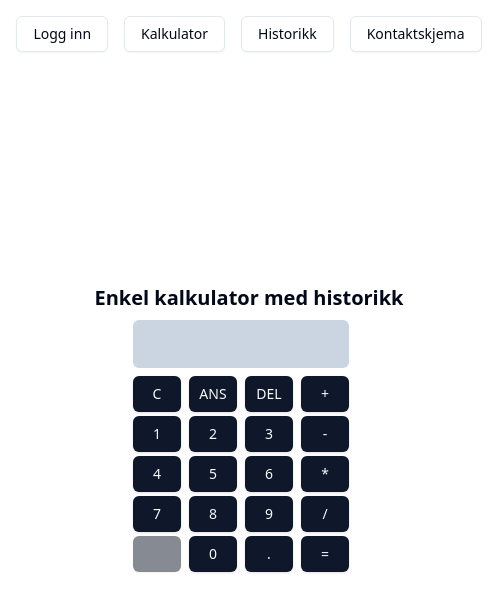
submit button should be deactivated when the form is invalid › gives the right status when submitting
Click the link "Kontaktskjema": (416, 34) [367, 24, 465, 44]
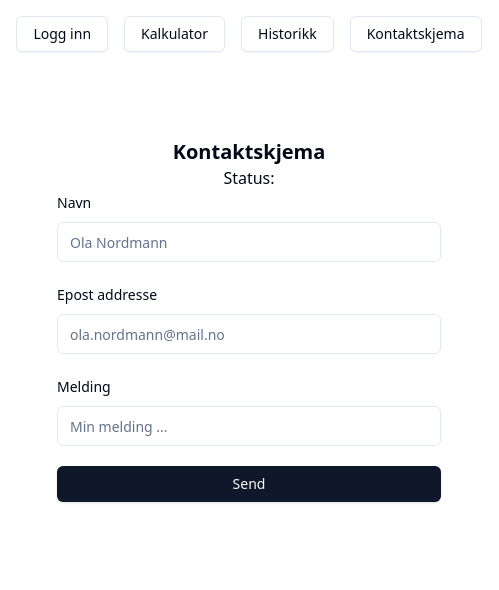
In the field named "name": (249, 242) [57, 222, 441, 262], type "John Doe"
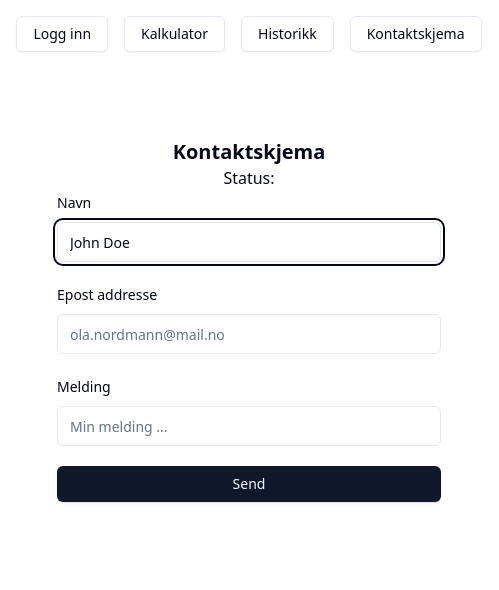
In the field named "email": (249, 334) [57, 314, 441, 354], type "some.mail@gmail.com"
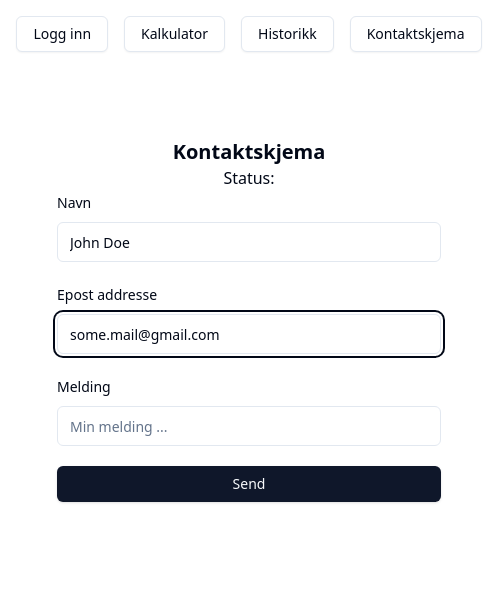
In the field named "message": (249, 426) [57, 406, 441, 446], type "Hello, World"
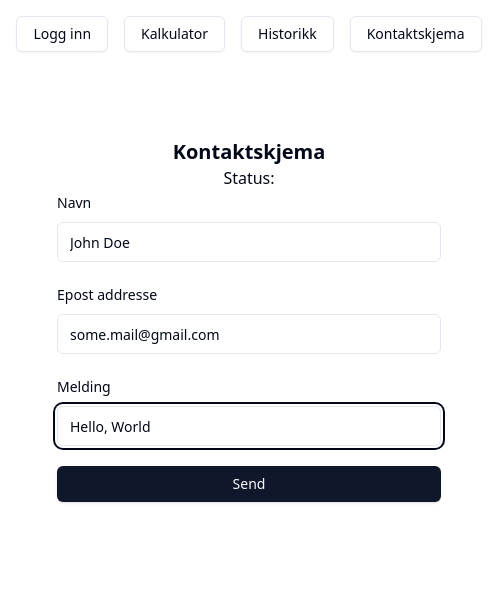
Click the submit button: (249, 484) [57, 466, 441, 502]
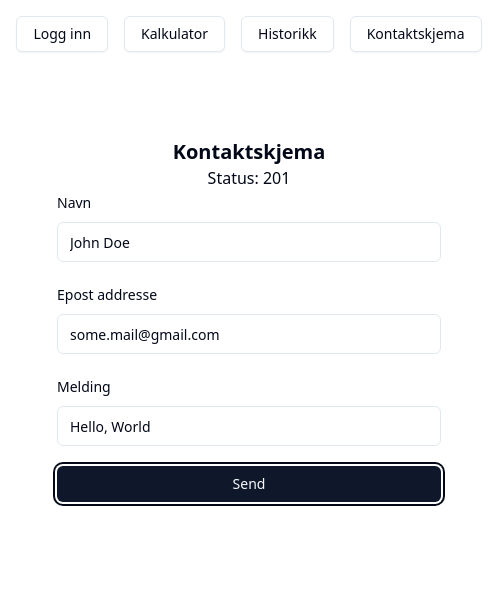
Expected: the text with id "status" reads "Status: 201", [208, 166, 291, 190]
